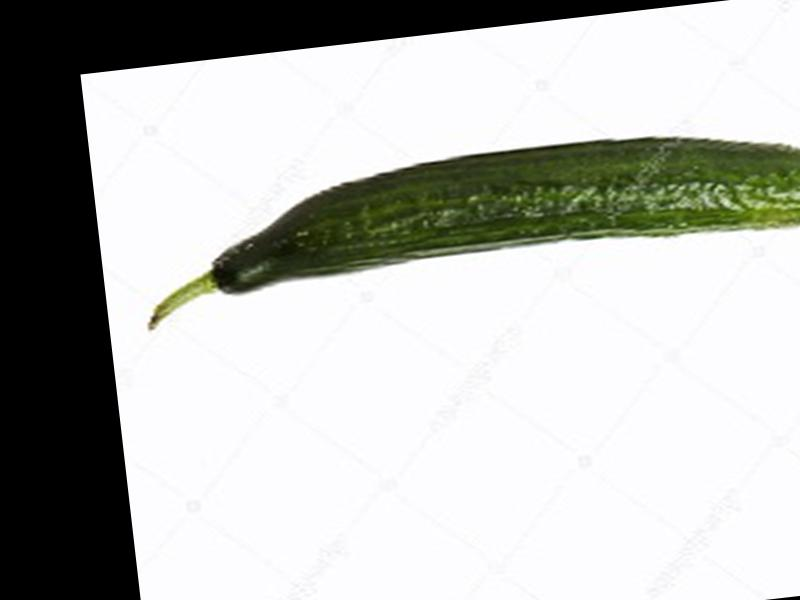Cucumber: (129, 114, 800, 330)
